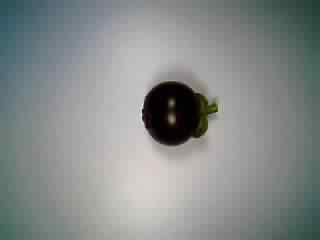mangosteen: (138, 76, 223, 147)
